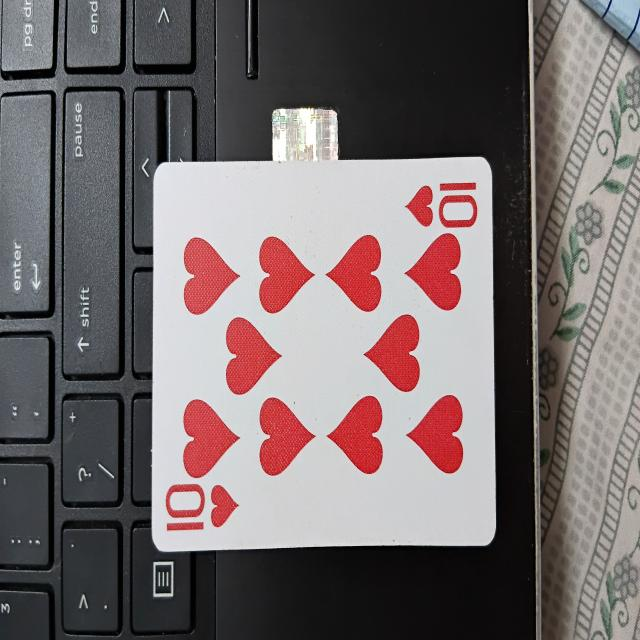10H: (153, 154, 497, 550)
